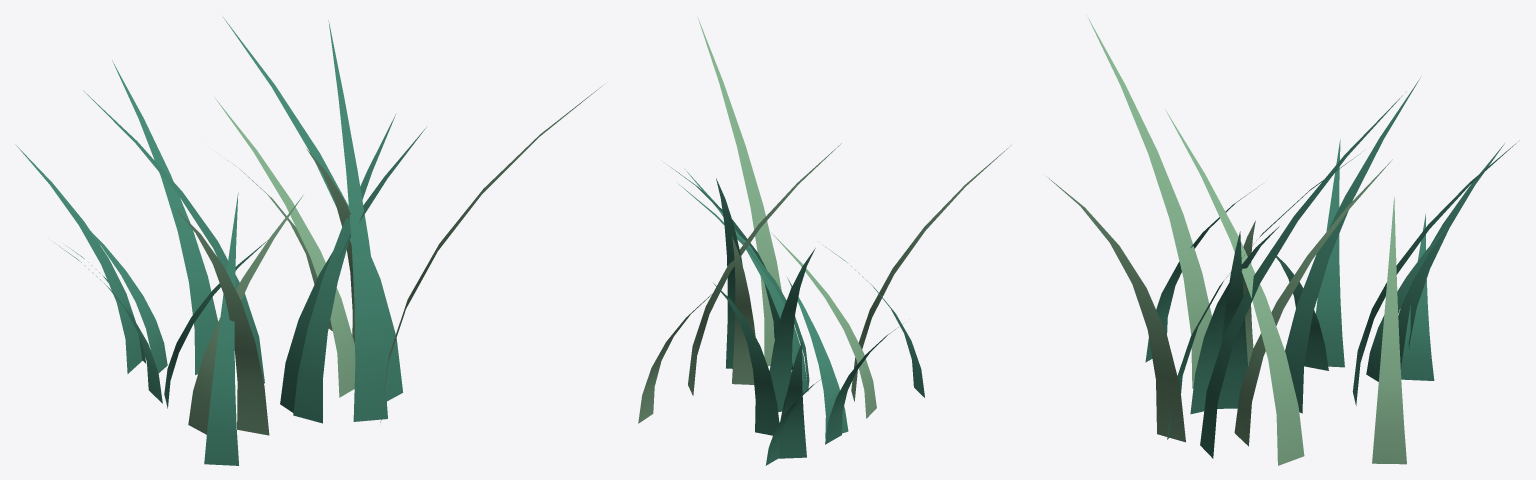
File: oasis_grass.glb
3 renders of one model, left to right at view 1: azimuth 30°, elevation 25°; view 2: azimuth 150°, elevation 25°; view 3: azimuth 270°, elevation 25°, orthographic. The views are drawn at different scales.
Parts seen in each view (by area): view 1: Grass blade.001, Grass blade; view 2: Grass blade.001, Grass blade; view 3: Grass blade.001, Grass blade.
Boxes of the visible parts, x1=… form: Grass blade.001: x1=15, y1=17, x2=426, y2=465; Grass blade: x1=175, y1=83, x2=605, y2=435; Grass blade.001: x1=665, y1=163, x2=924, y2=465; Grass blade: x1=638, y1=17, x2=1011, y2=423; Grass blade.001: x1=1145, y1=77, x2=1519, y2=458; Grass blade: x1=1046, y1=18, x2=1406, y2=465.
Size of the model in its own units: 0.597 by 0.4759 by 0.5992.
